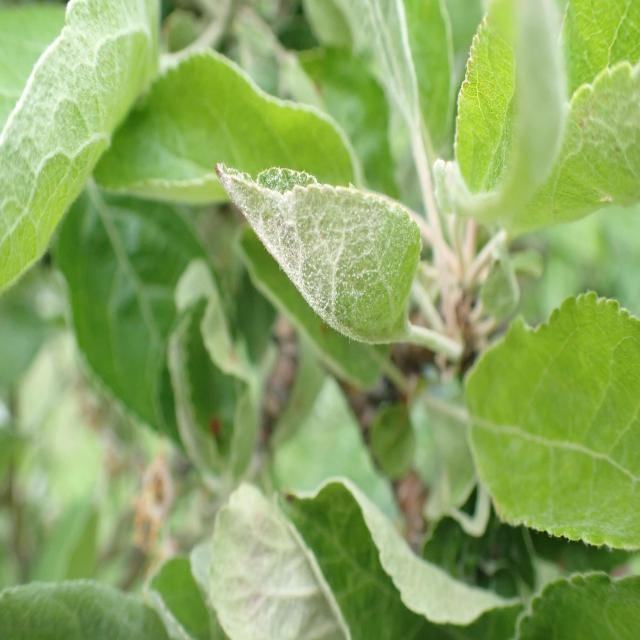Powdery_mildew: (1, 0, 184, 313), (203, 148, 434, 368)
